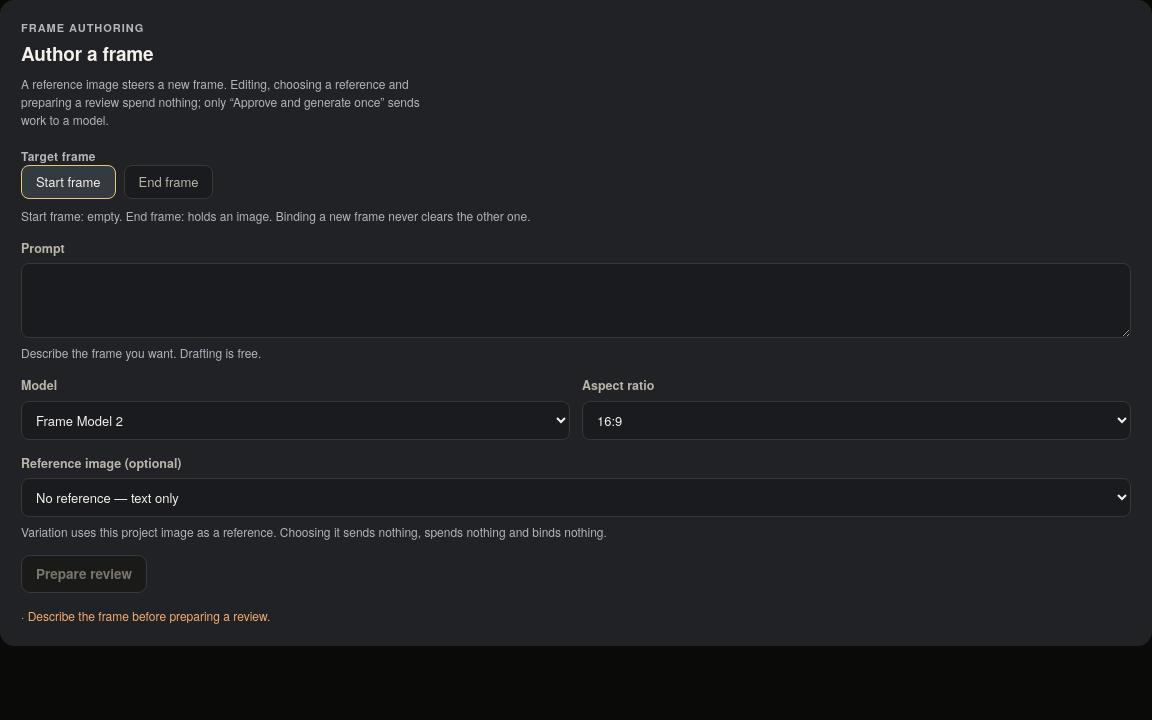
Test: cancelling preparation aborts it and ignores the late answer without spending
Type "Cold dawn" into the text box labelled "Prompt".
click(576, 301); type("Cold dawn")  # box [21,263,1131,338]
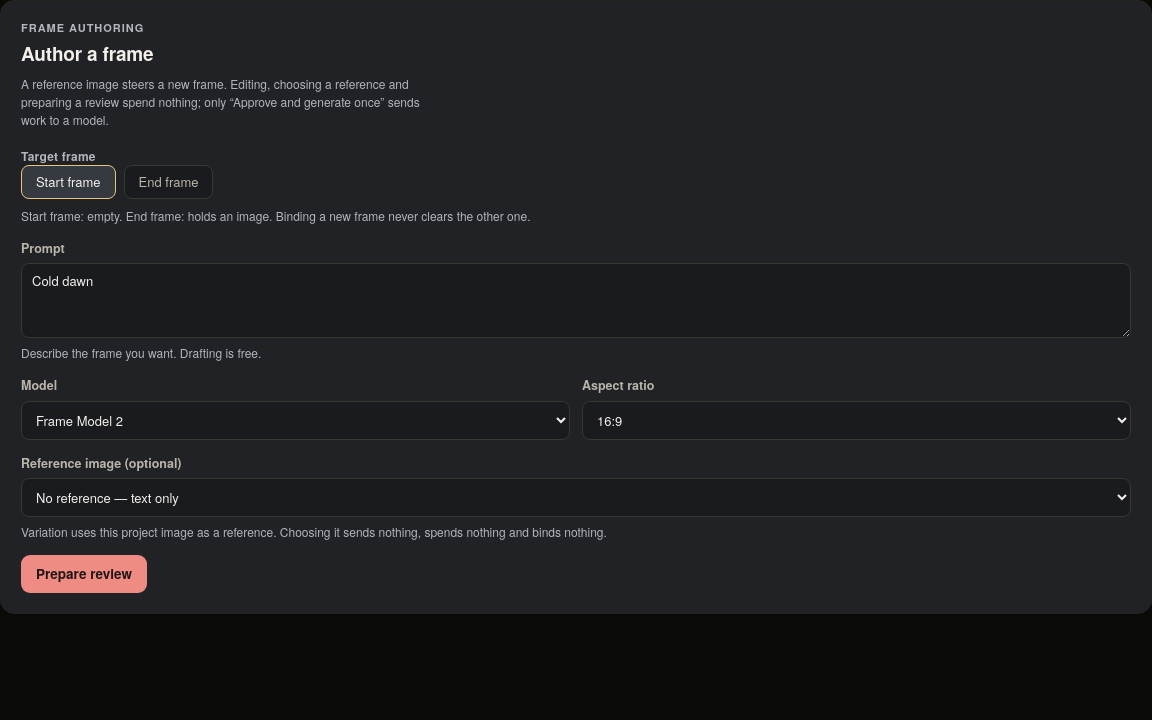
Click the button "Prepare review".
click(84, 574)  # box [21,556,147,594]
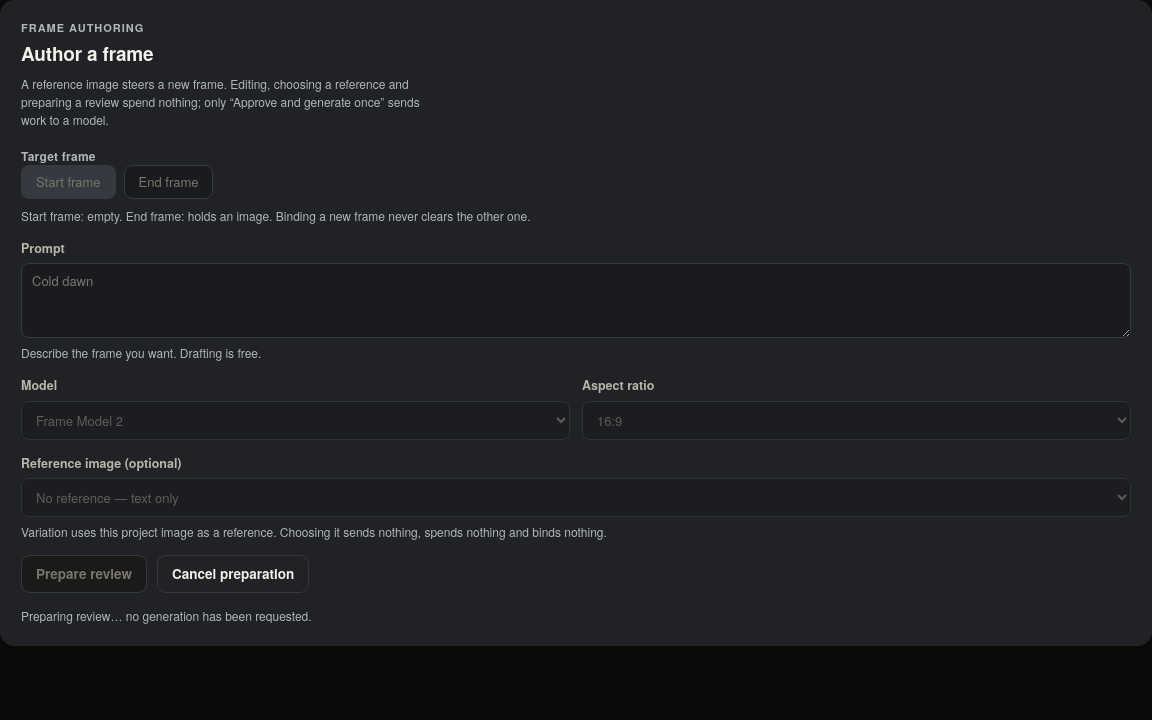
Now the text "Preparing review… no generation has been requested." is shown, box [21,608,312,624]
Click the button "Cancel preparation".
click(233, 574)  # box [157,556,309,594]
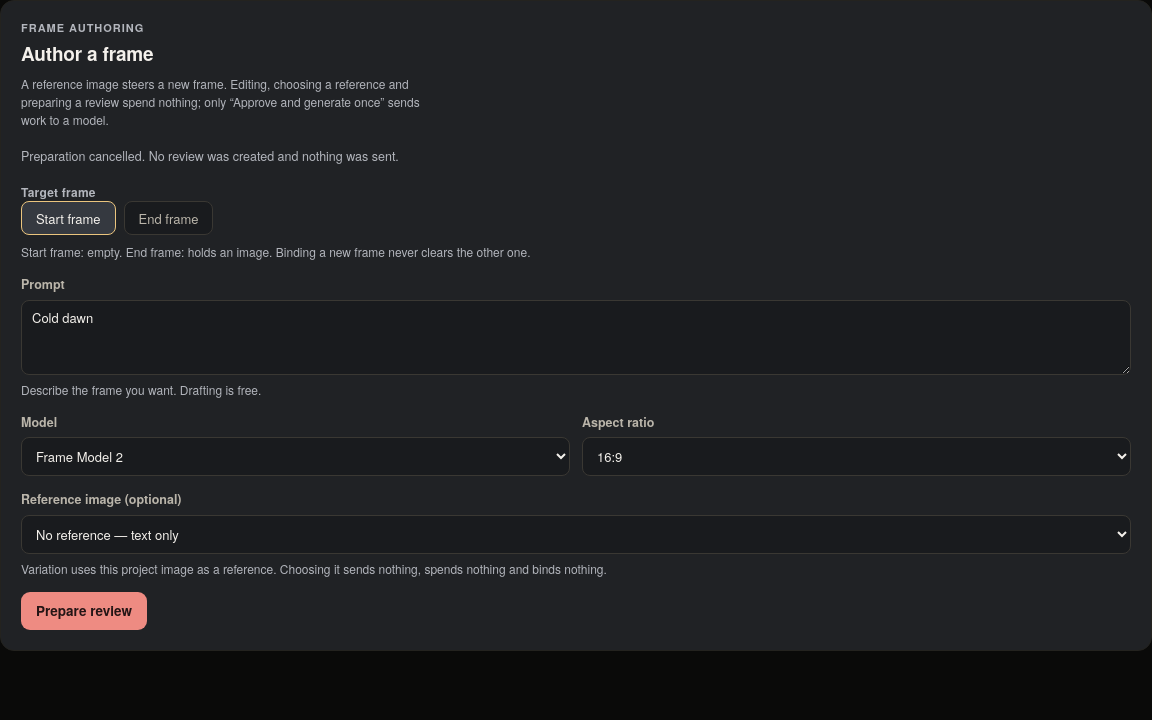
Now the message shows "cancelled", box [21,147,399,165]
